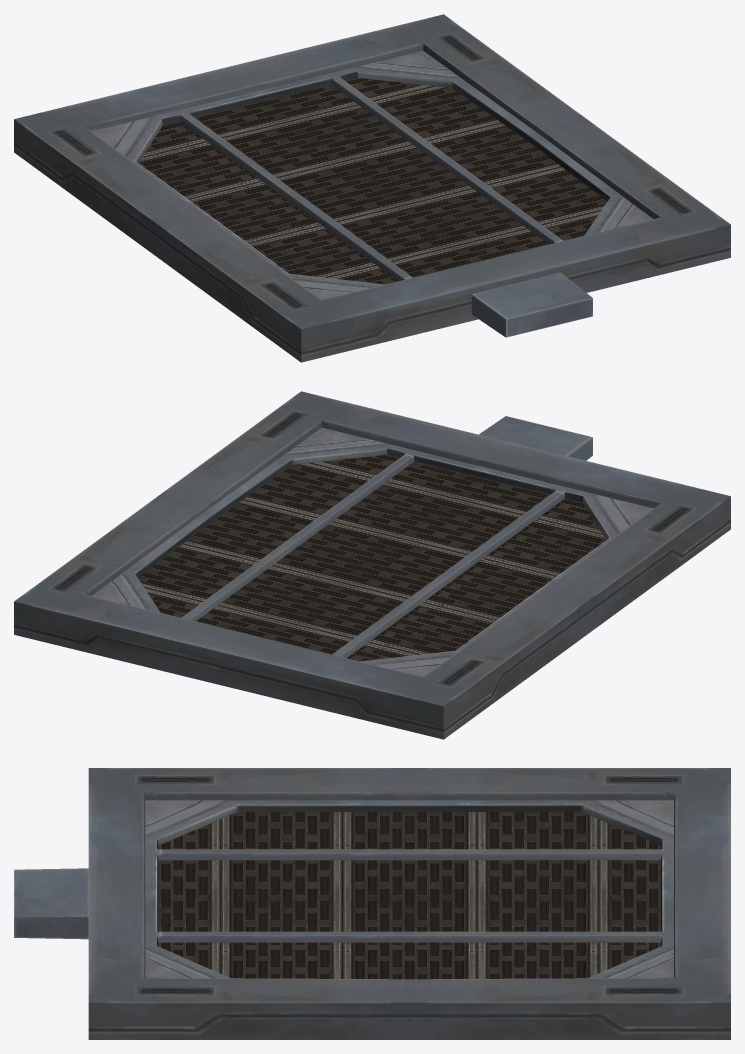
The model's file is all_item_imp_scaffold_elevator_lift.glb.
The picture shows the model from 3 angles, top to bottom: view 1: azimuth 30°, elevation 25°; view 2: azimuth 150°, elevation 25°; view 3: azimuth 270°, elevation 25°; orthographic projection. The views are drawn at different scales.
Parts seen in each view (by area): view 1: all_item_imp_scaffold_elevator_lift; view 2: all_item_imp_scaffold_elevator_lift; view 3: all_item_imp_scaffold_elevator_lift.
Boxes of the visible parts, x1,y1,x2,y2 form: all_item_imp_scaffold_elevator_lift: (14,14,730,362); all_item_imp_scaffold_elevator_lift: (14,391,730,739); all_item_imp_scaffold_elevator_lift: (14,768,730,1039).
Size of the model in its own units: 0.4617 by 0.0341 by 0.5964.
Materials: 2 (2 with a texture image).
